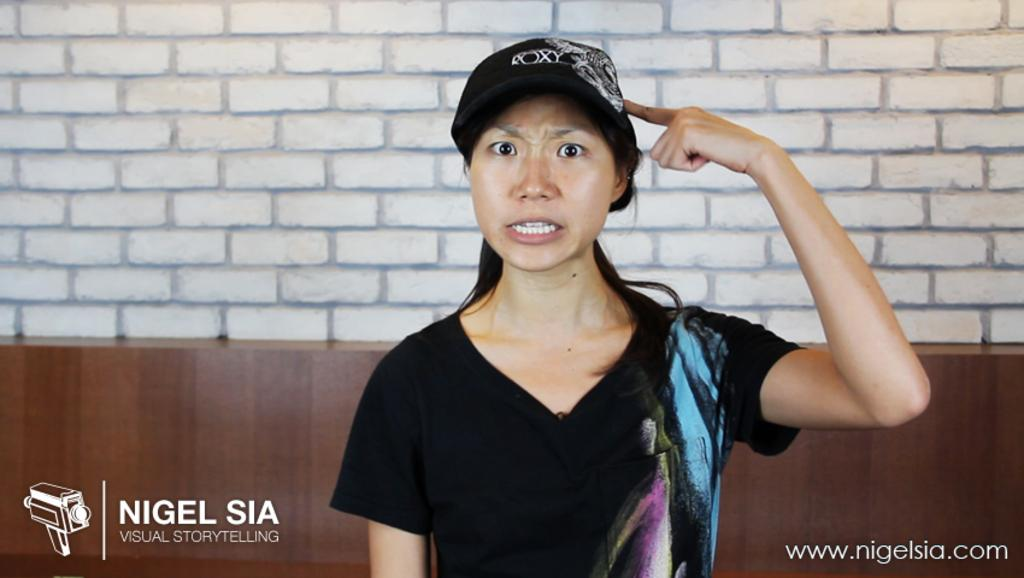Hat: (452, 36, 644, 154)
